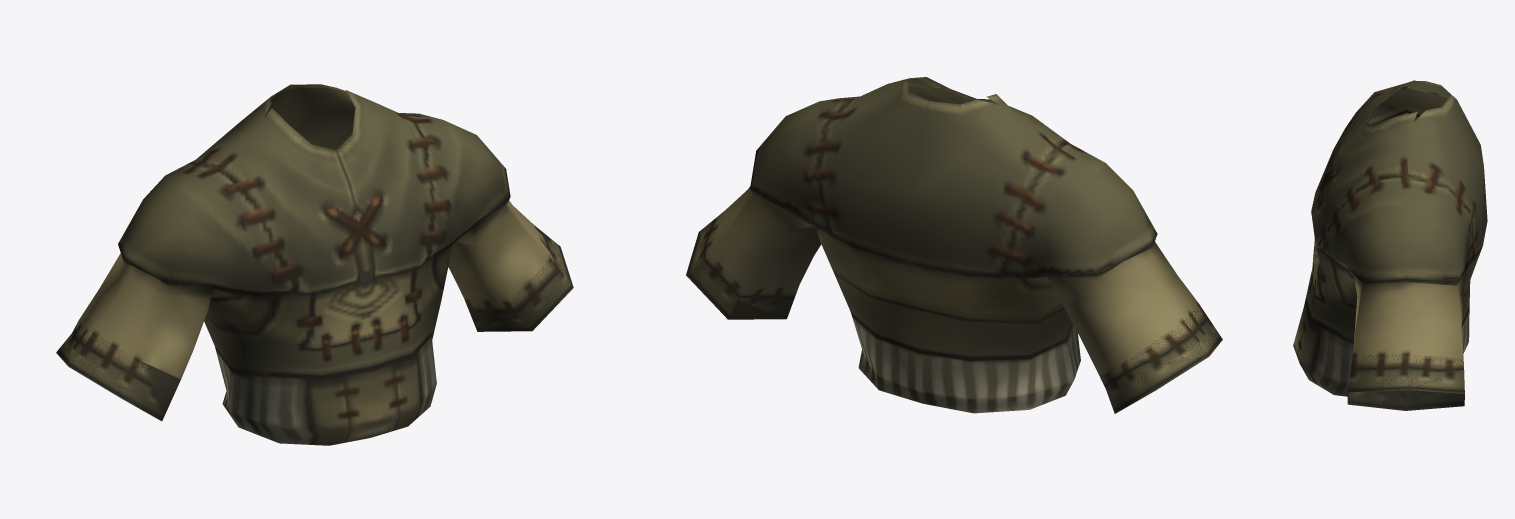
The model's file is hum_colonist_01_686610a5.glb.
3 renders of one model, left to right at view 1: azimuth 30°, elevation 25°; view 2: azimuth 150°, elevation 25°; view 3: azimuth 270°, elevation 25°, orthographic. The views are drawn at different scales.
Bounding box in the file's own units: 1.4 × 0.891 × 0.4757.
Materials: 1 (1 with a texture image).
